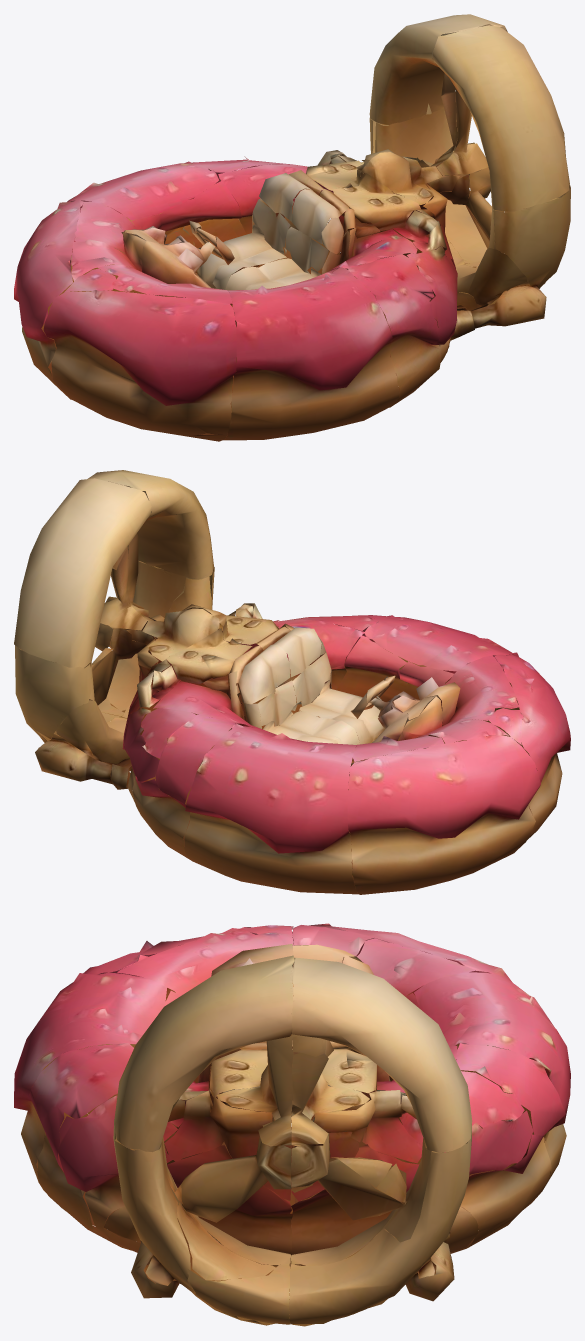
File: ride-bumper-cars-donut.glb
3 renders of one model, top to bottom at view 1: azimuth 30°, elevation 25°; view 2: azimuth 150°, elevation 25°; view 3: azimuth 270°, elevation 25°, orthographic. The views are drawn at different scales.
Visible parts, largest first — view 1: tripo_node_fb64d021-b876-482a-ba4a-6b6e0bdad114; view 2: tripo_node_fb64d021-b876-482a-ba4a-6b6e0bdad114; view 3: tripo_node_fb64d021-b876-482a-ba4a-6b6e0bdad114.
Part boxes in pixels (x1,y1,x2,y2): tripo_node_fb64d021-b876-482a-ba4a-6b6e0bdad114: [14, 14, 570, 441]; tripo_node_fb64d021-b876-482a-ba4a-6b6e0bdad114: [14, 470, 570, 894]; tripo_node_fb64d021-b876-482a-ba4a-6b6e0bdad114: [14, 923, 570, 1326].
Bounding box in the file's own units: 0.998 × 0.5814 × 0.8168.
1 material, 1 textured.
